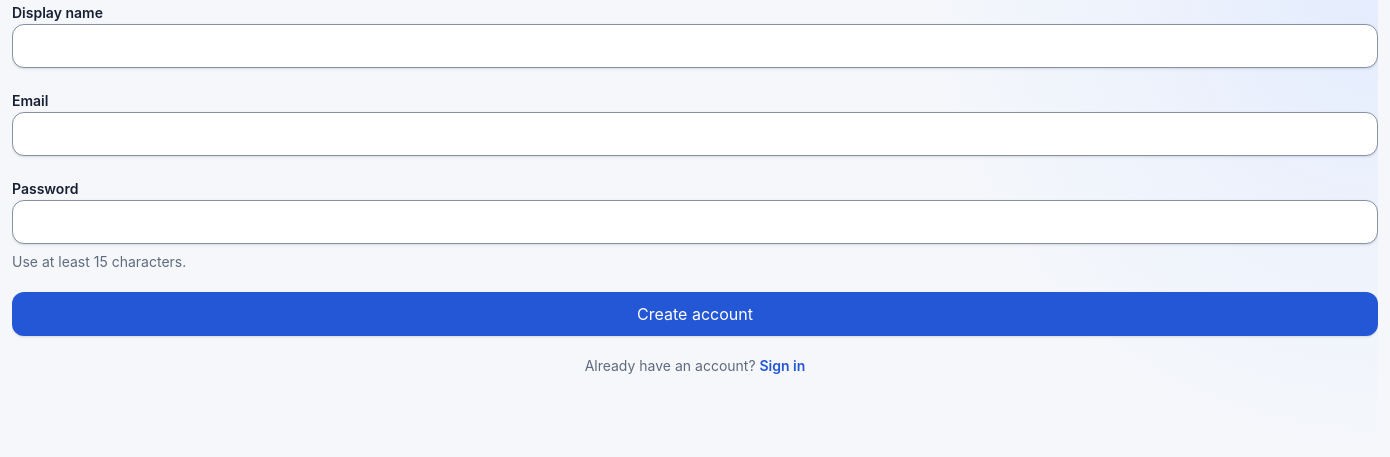
Test case: RegisterForm › presents duplicate-account errors safely
The width and height of the screenshot is (1390, 457).
Type "user@example.com" into the field labelled "Email".
click(695, 134); type("user@example.com")  # box x1=12 y1=112 x2=1378 y2=156
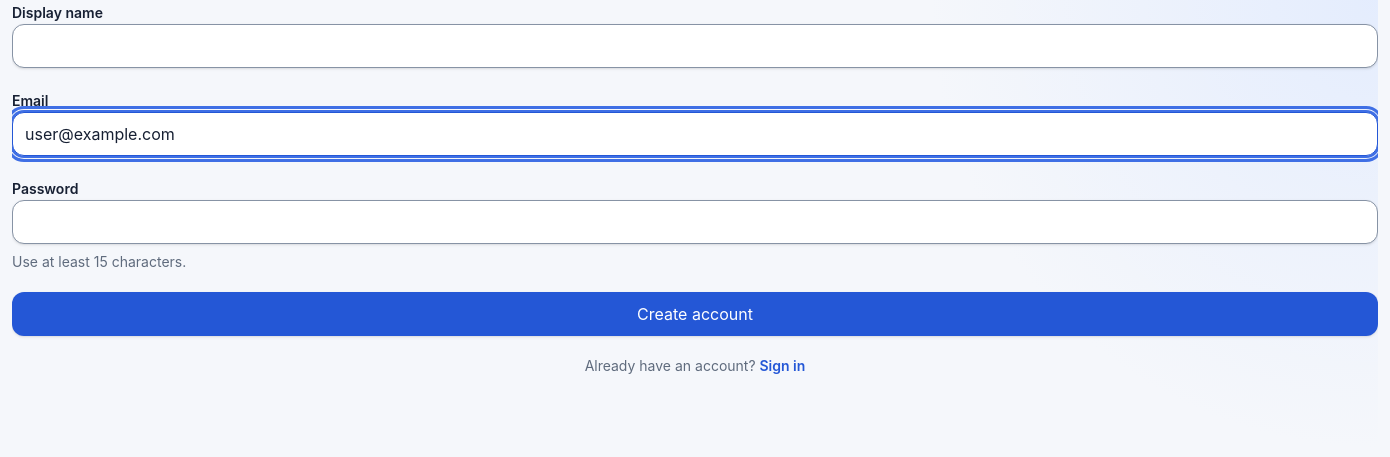
Type "123456789012345" into the password field labelled "Password".
click(695, 222); type("123456789012345")  # box x1=12 y1=200 x2=1378 y2=244
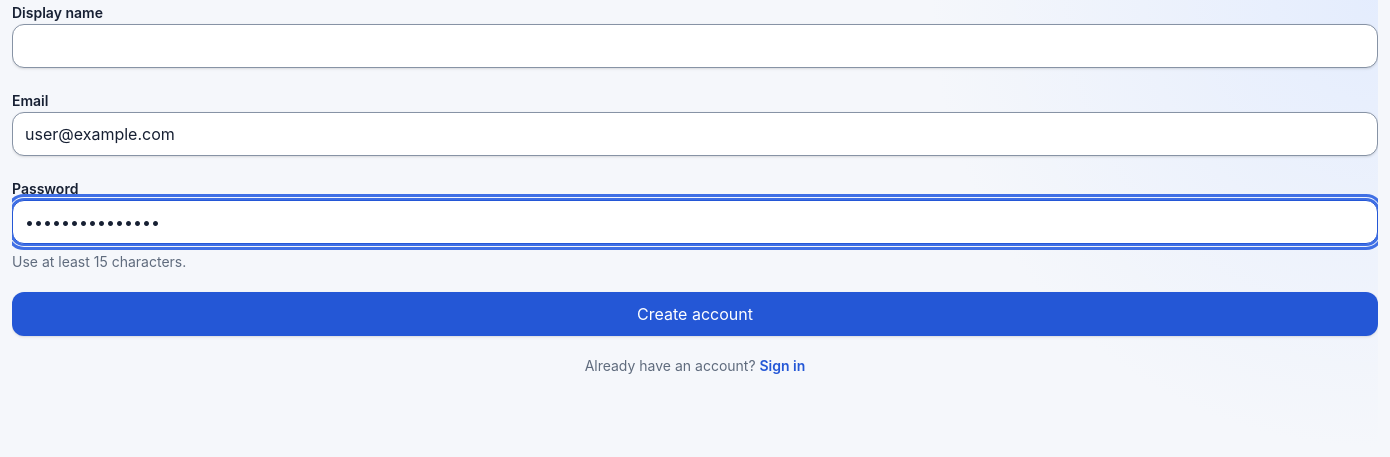
Click the button "Create account".
click(695, 314)  # box x1=12 y1=292 x2=1378 y2=336
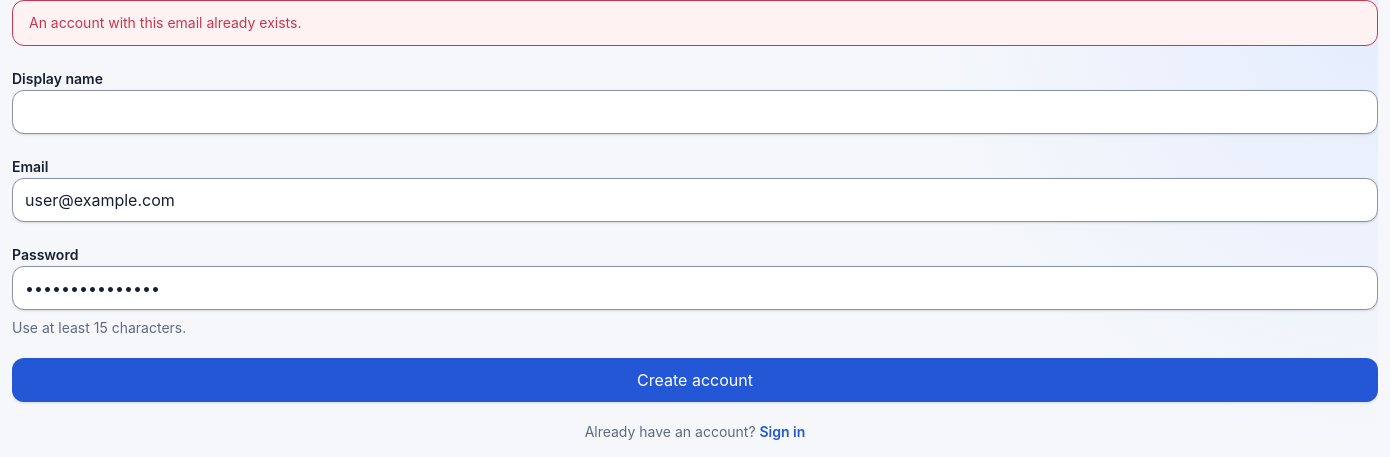
Expected: the message reads "An account with this email already exists.", x1=29 y1=14 x2=302 y2=31
